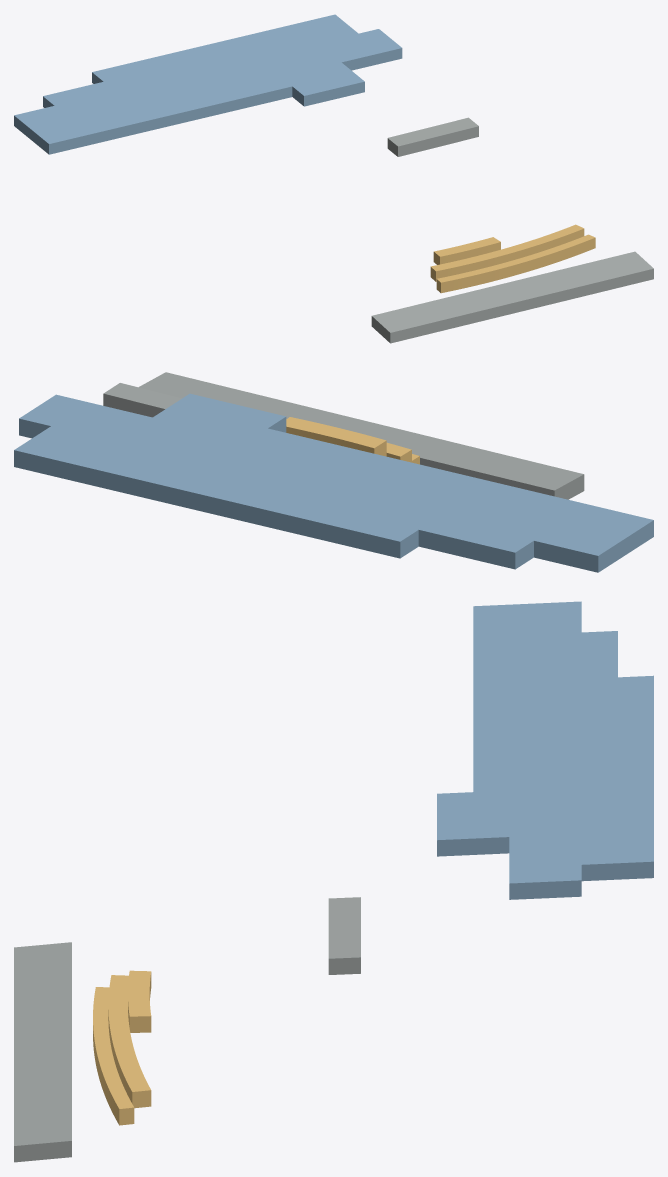
Rendered from reconstruction-19f6b65261ec.glb.
3 views of the same model, one above another, from view 1: azimuth 30°, elevation 25°; view 2: azimuth 150°, elevation 25°; view 3: azimuth 270°, elevation 25° (orthographic). The views are drawn at different scales.
Visible parts, largest first — view 1: c2-upper-terrace, l0-approach-ramp, ca-step-1, ca-step-2, c1-tread, ca-step-3; view 2: c2-upper-terrace, l0-approach-ramp, ca-step-3, c1-tread, ca-step-2; view 3: c2-upper-terrace, l0-approach-ramp, ca-step-2, ca-step-1, c1-tread, ca-step-3.
Boxes of the visible parts, left/top/right/bottom form: c2-upper-terrace: left=14, top=14, right=402, bottom=154; l0-approach-ramp: left=371, top=251, right=653, bottom=343; ca-step-1: left=436, top=234, right=595, bottom=293; ca-step-2: left=430, top=224, right=584, bottom=281; c1-tread: left=387, top=117, right=478, bottom=156; ca-step-3: left=433, top=237, right=500, bottom=264; c2-upper-terrace: left=14, top=393, right=653, bottom=572; l0-approach-ramp: left=139, top=372, right=584, bottom=499; ca-step-3: left=286, top=417, right=386, bottom=456; c1-tread: left=103, top=383, right=181, bottom=417; ca-step-2: left=286, top=419, right=411, bottom=462; c2-upper-terrace: left=437, top=601, right=653, bottom=899; l0-approach-ramp: left=14, top=942, right=71, bottom=1162; ca-step-2: left=108, top=975, right=151, bottom=1108; ca-step-1: left=93, top=987, right=134, bottom=1125; c1-tread: left=328, top=897, right=360, bottom=974; ca-step-3: left=128, top=970, right=151, bottom=1032.
Size of the model in its own units: 11.25 by 3.35 by 8.85.
